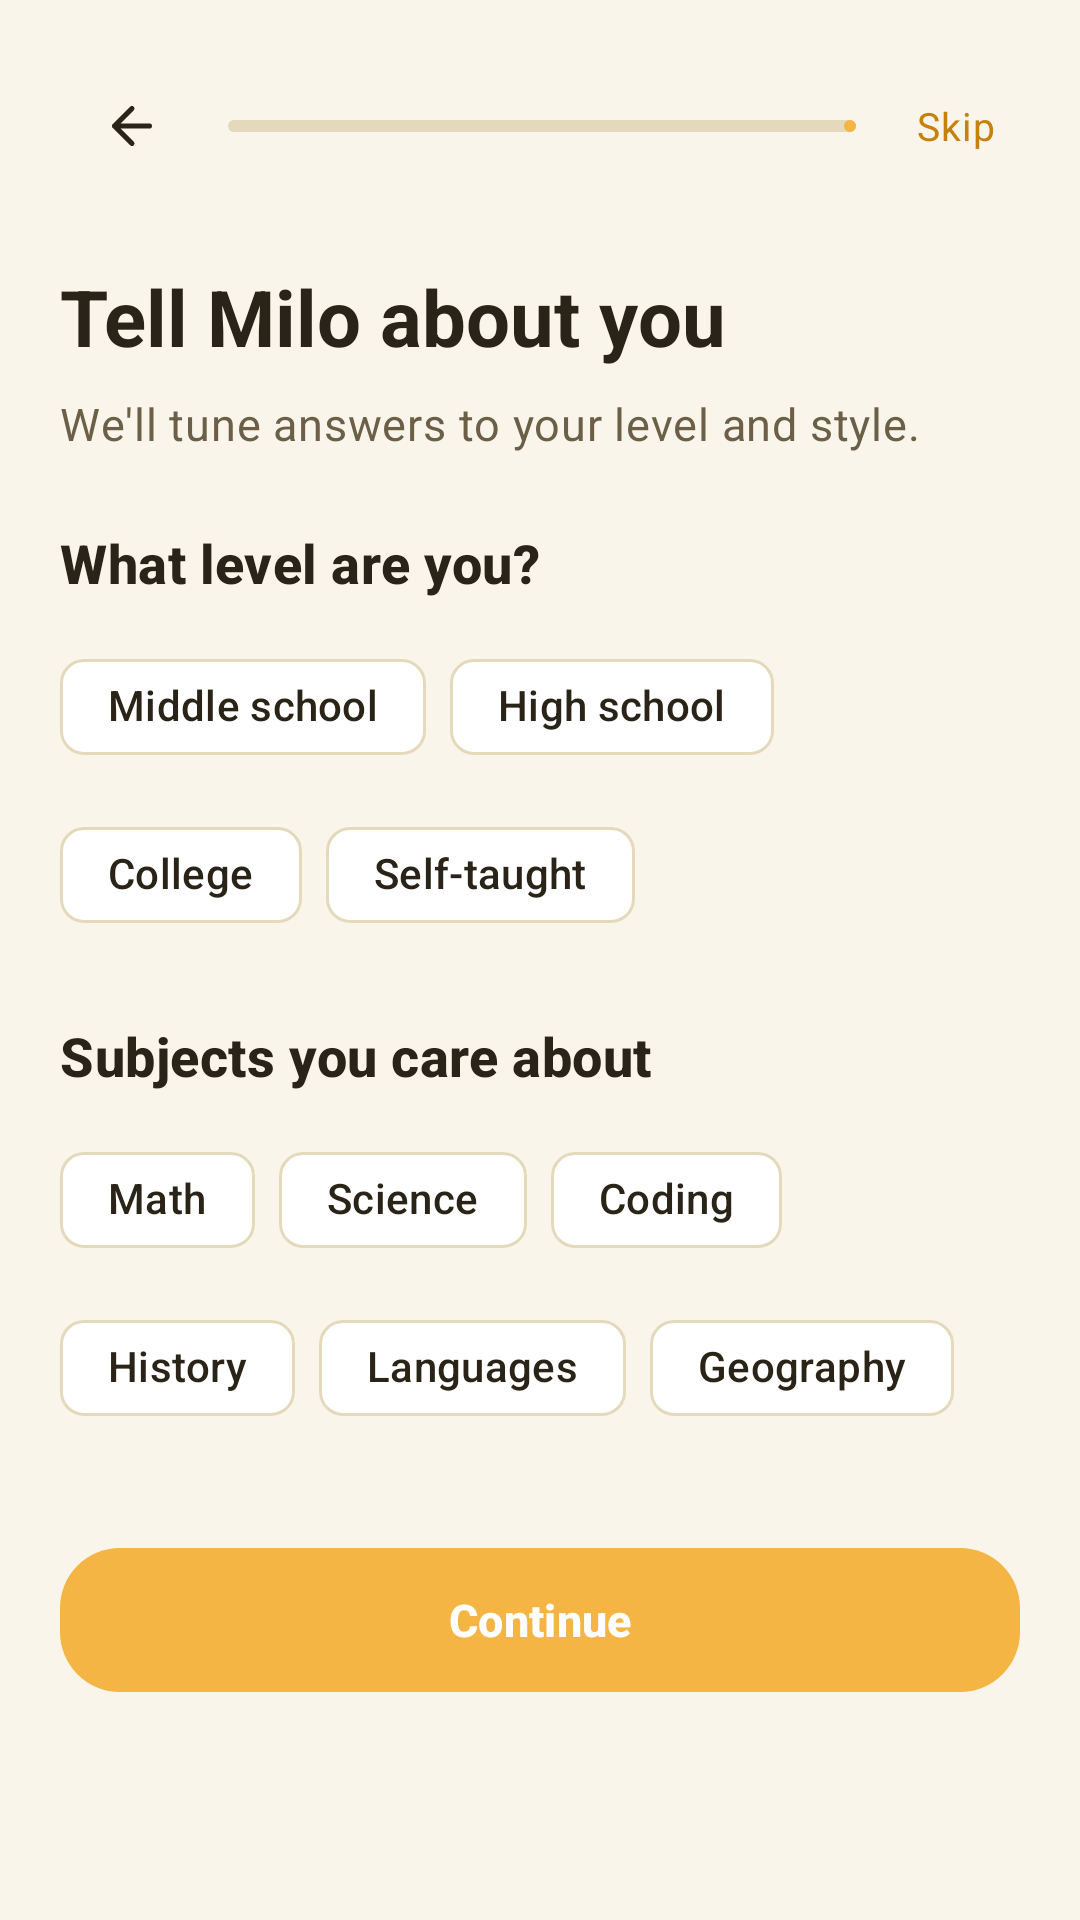

Where icons sit on this 1080px x 1920px app screen, as (x1, y1, x2, y2):
back: (112, 106, 152, 146)
